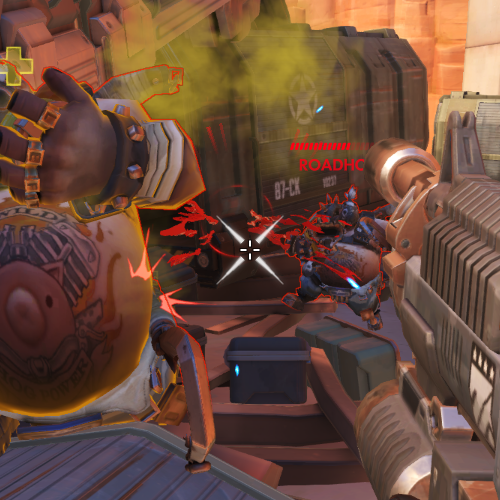hpbar: (289, 142, 375, 151)
